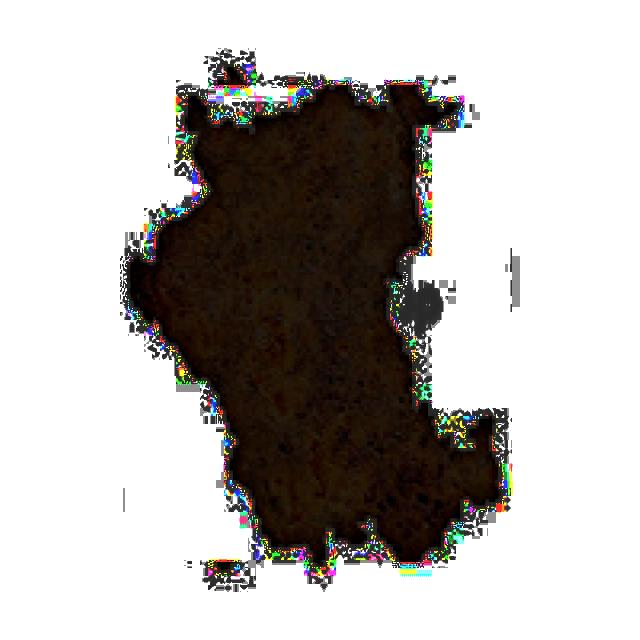Corrosion: (129, 86, 500, 565)
